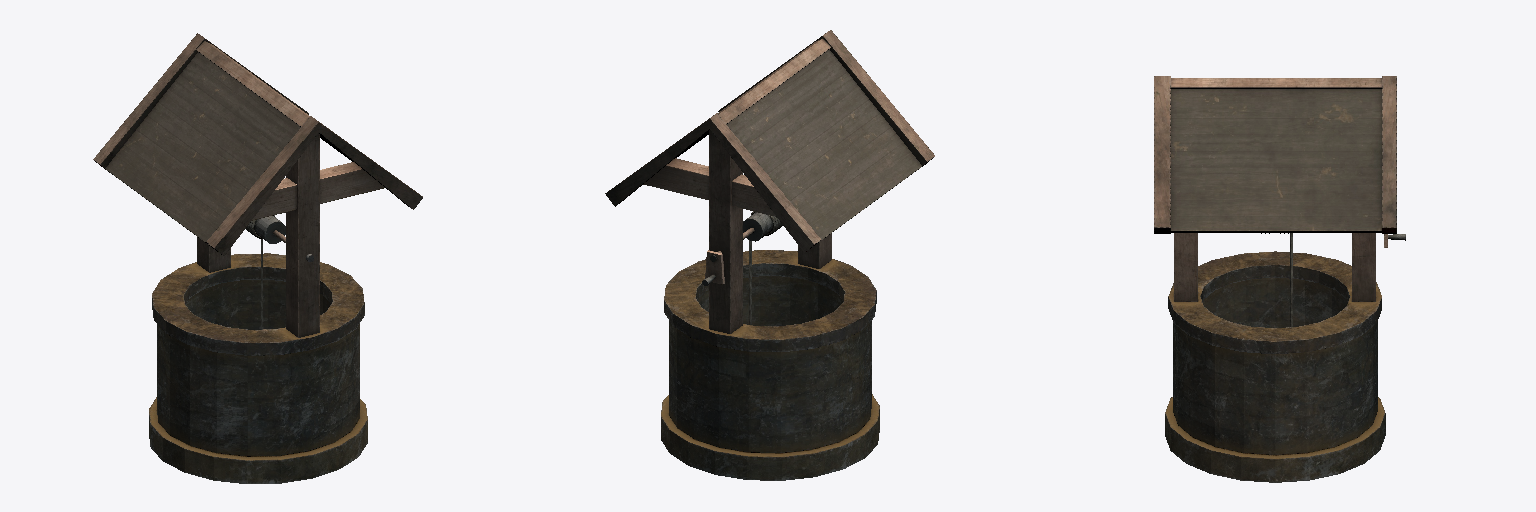
3 renders of one model, left to right at view 1: azimuth 30°, elevation 25°; view 2: azimuth 150°, elevation 25°; view 3: azimuth 270°, elevation 25°, orthographic.
Visible parts, largest first — view 1: Well_polySurface5014; view 2: Well_polySurface5014; view 3: Well_polySurface5014.
Part boxes in pixels (left/top/right/bottom): Well_polySurface5014: left=93, top=33, right=422, bottom=483; Well_polySurface5014: left=605, top=30, right=934, bottom=480; Well_polySurface5014: left=1154, top=76, right=1405, bottom=482.
Size of the model in its own units: 19.77 by 32.53 by 20.58.
1 materials, 1 textured.